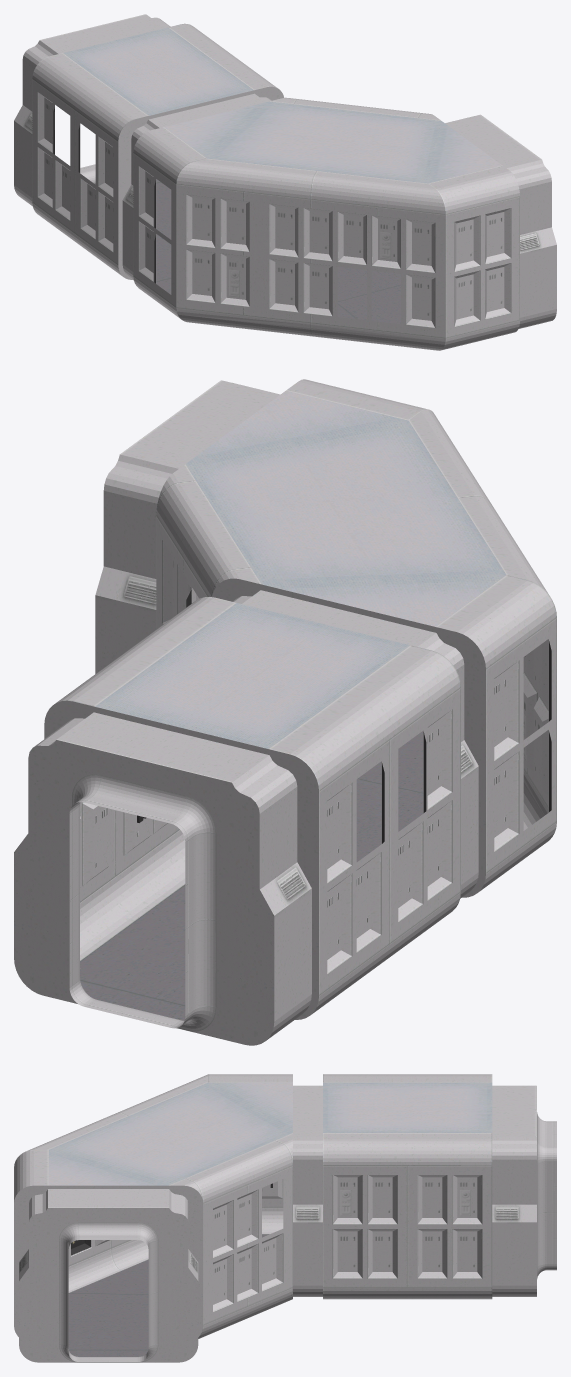
The model's file is thm_spc_corvette_dungeon_r26_hall26_mesh_r26.fbx.
The picture shows the model from 3 angles, top to bottom: view 1: azimuth 30°, elevation 25°; view 2: azimuth 150°, elevation 25°; view 3: azimuth 270°, elevation 25°; orthographic projection. The views are drawn at different scales.
Parts seen in each view (by area): view 1: mesh_node; view 2: mesh_node; view 3: mesh_node.
Boxes of the visible parts, bbox=[...] form: mesh_node: bbox=[14, 14, 556, 350]; mesh_node: bbox=[14, 379, 556, 1045]; mesh_node: bbox=[14, 1074, 556, 1362].
Size of the model in its own units: 7 by 3.5 by 10.9.
